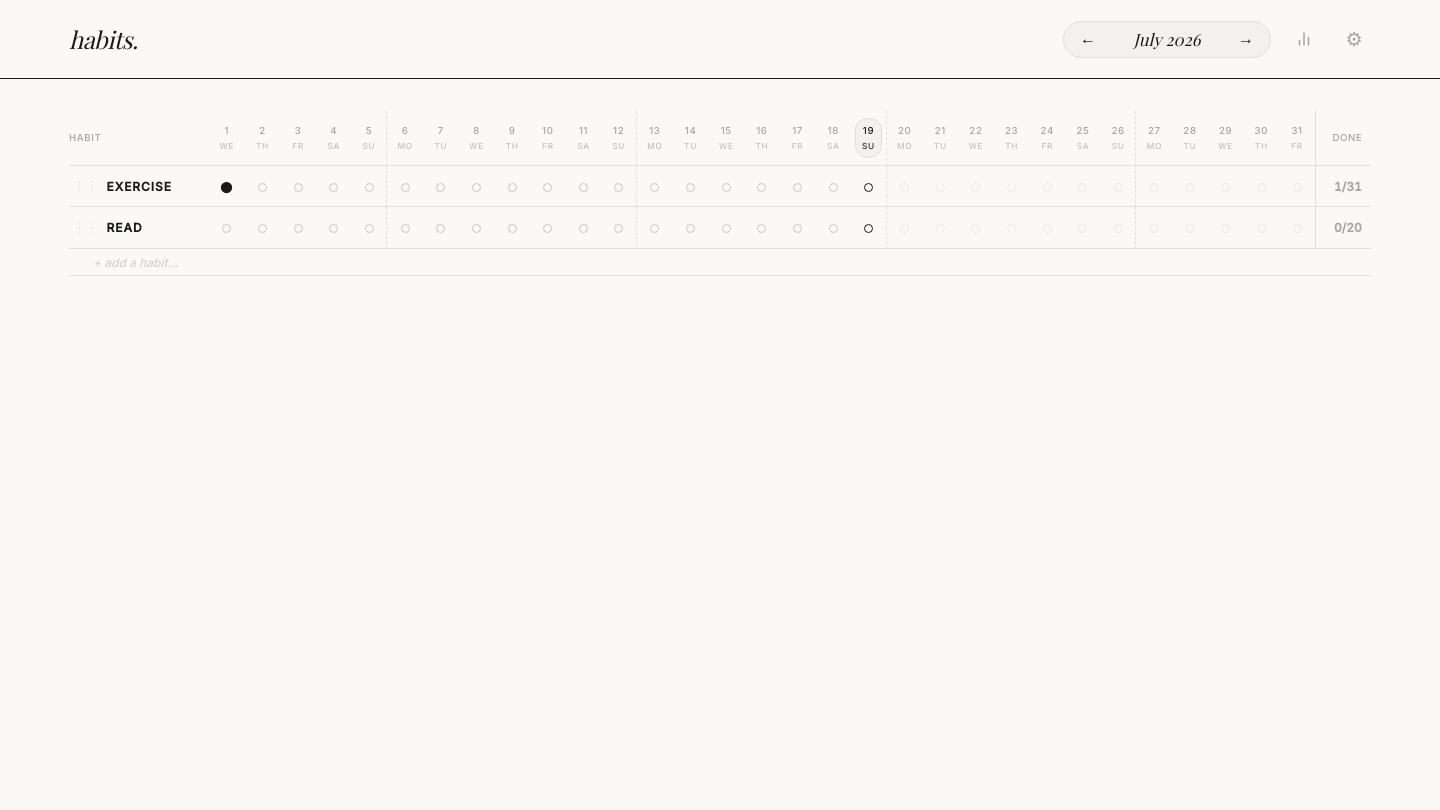
HabitTracker page › opens settings modal when gear button is clicked
What coordinates should you click on to do the following:
click the button titled "Settings"
I would click on:
 (1354, 39)
Its box is top-left (1337, 22), bottom-right (1371, 56).
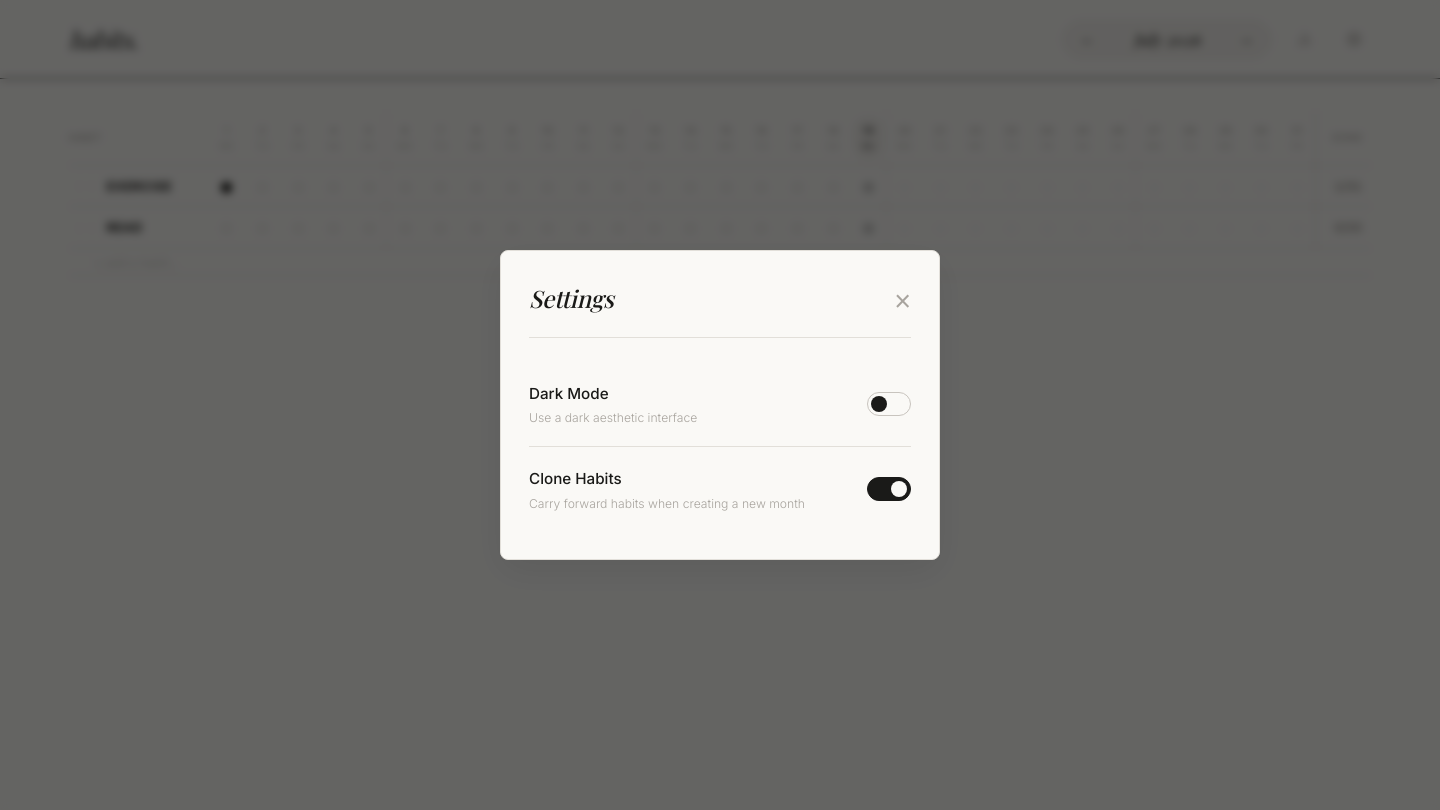
expect the heading "Settings" is shown: met, box top-left (529, 279), bottom-right (614, 317)
expect the text "Dark Mode" is shown: met, box top-left (529, 384), bottom-right (609, 403)
expect the text "Clone Habits" is shown: met, box top-left (529, 469), bottom-right (622, 488)
